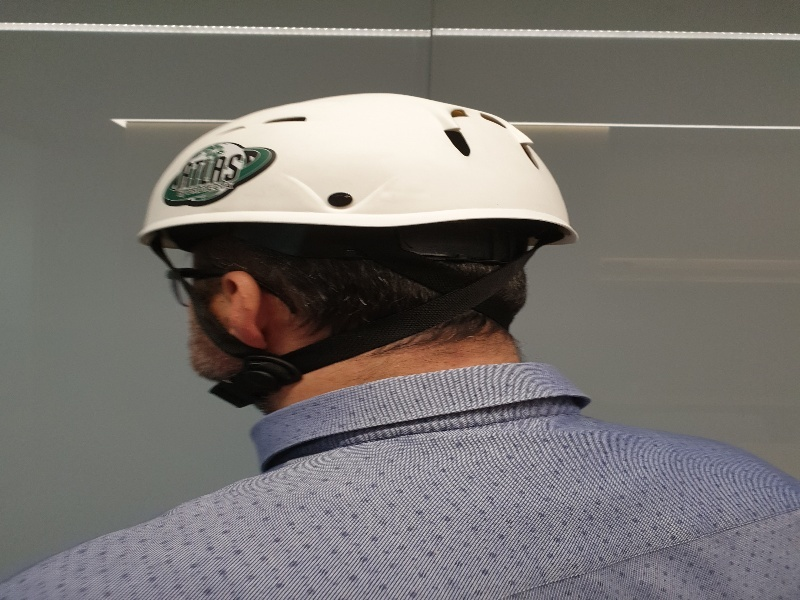Baret: (140, 92, 577, 257)
